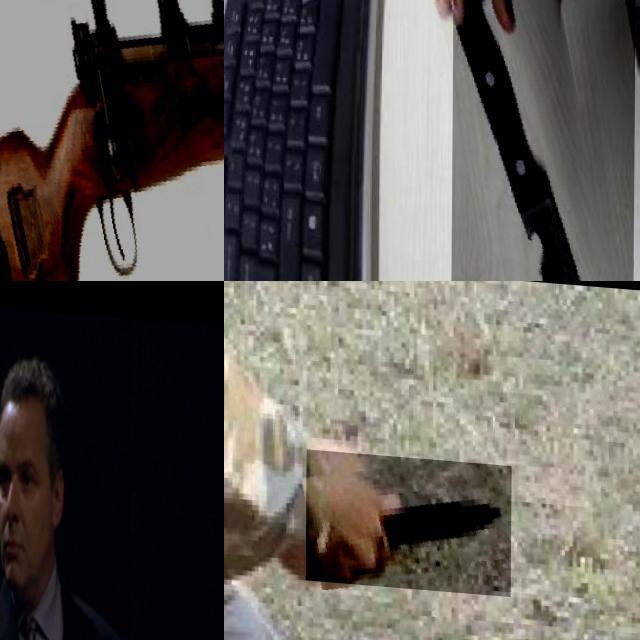-: (450, 0, 636, 281), (306, 444, 512, 588)
gun-knife-thesis - v11 Yolov5 augmented: (0, 0, 224, 281), (0, 571, 29, 640)
